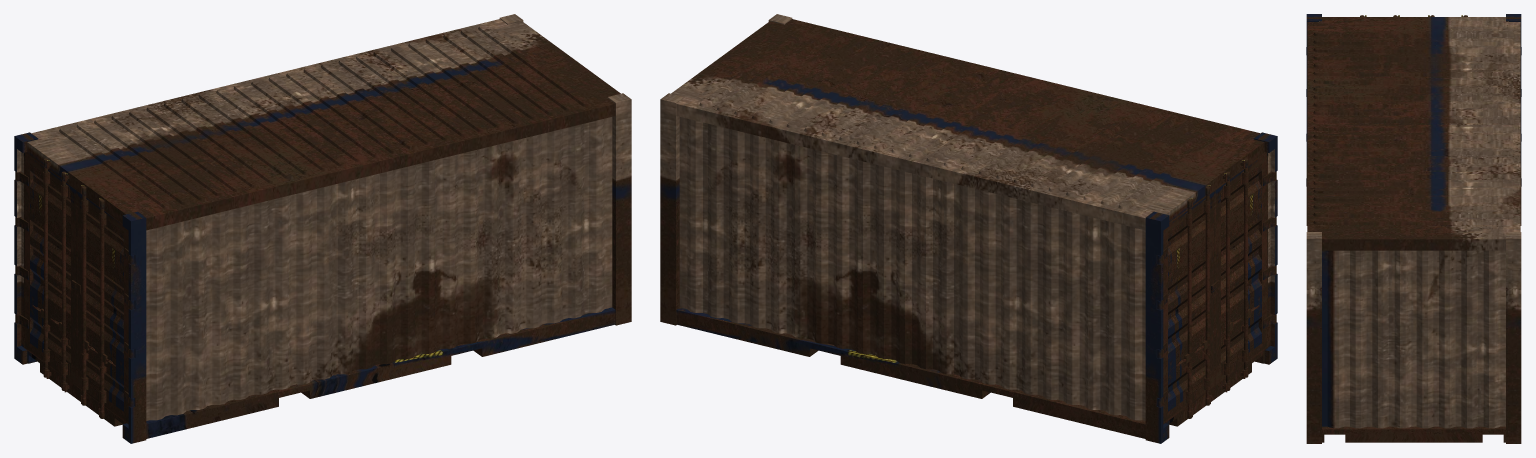
The model's file is Container.dae.
3 renders of one model, left to right at view 1: azimuth 30°, elevation 25°; view 2: azimuth 150°, elevation 25°; view 3: azimuth 270°, elevation 25°, orthographic. The views are drawn at different scales.
Parts seen in each view (by area): view 1: Container, ContainerDoor, ContainerDoor.001; view 2: Container, ContainerDoor.001, ContainerDoor; view 3: Container.
Boxes of the visible parts, x1=… form: Container: x1=14, y1=14, x2=631, y2=443; ContainerDoor: x1=15, y1=152, x2=76, y2=391; ContainerDoor.001: x1=71, y1=185, x2=134, y2=424; Container: x1=660, y1=14, x2=1277, y2=443; ContainerDoor.001: x1=1211, y1=152, x2=1276, y2=391; ContainerDoor: x1=1157, y1=185, x2=1214, y2=424; Container: x1=1306, y1=14, x2=1521, y2=443.
Bounding box in the file's own units: 5.95 × 2.4 × 2.53.
Materials: 1 (1 with a texture image).
